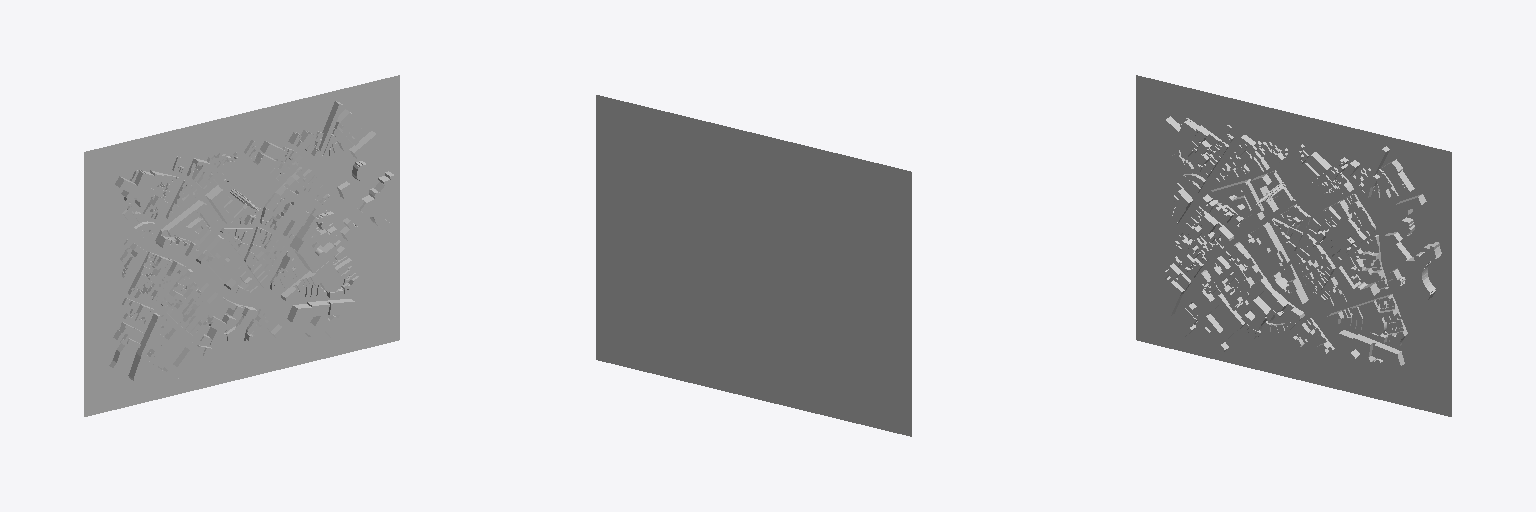
File: bruxelles.obj
The picture shows the model from 3 angles: view 1: azimuth 30°, elevation 25°; view 2: azimuth 150°, elevation 25°; view 3: azimuth 330°, elevation 25°; orthographic projection.
Visible parts, largest first — view 1: Plane, map.osm_buildings; view 2: Plane; view 3: Plane, map.osm_buildings.
Part boxes in pixels (x1,y1,x2,y2): Plane: (84, 75, 399, 416); map.osm_buildings: (109, 101, 395, 386); Plane: (596, 95, 911, 436); Plane: (1136, 75, 1451, 416); map.osm_buildings: (1156, 116, 1441, 380).
Size of the model in its own units: 620 by 497 by 92.